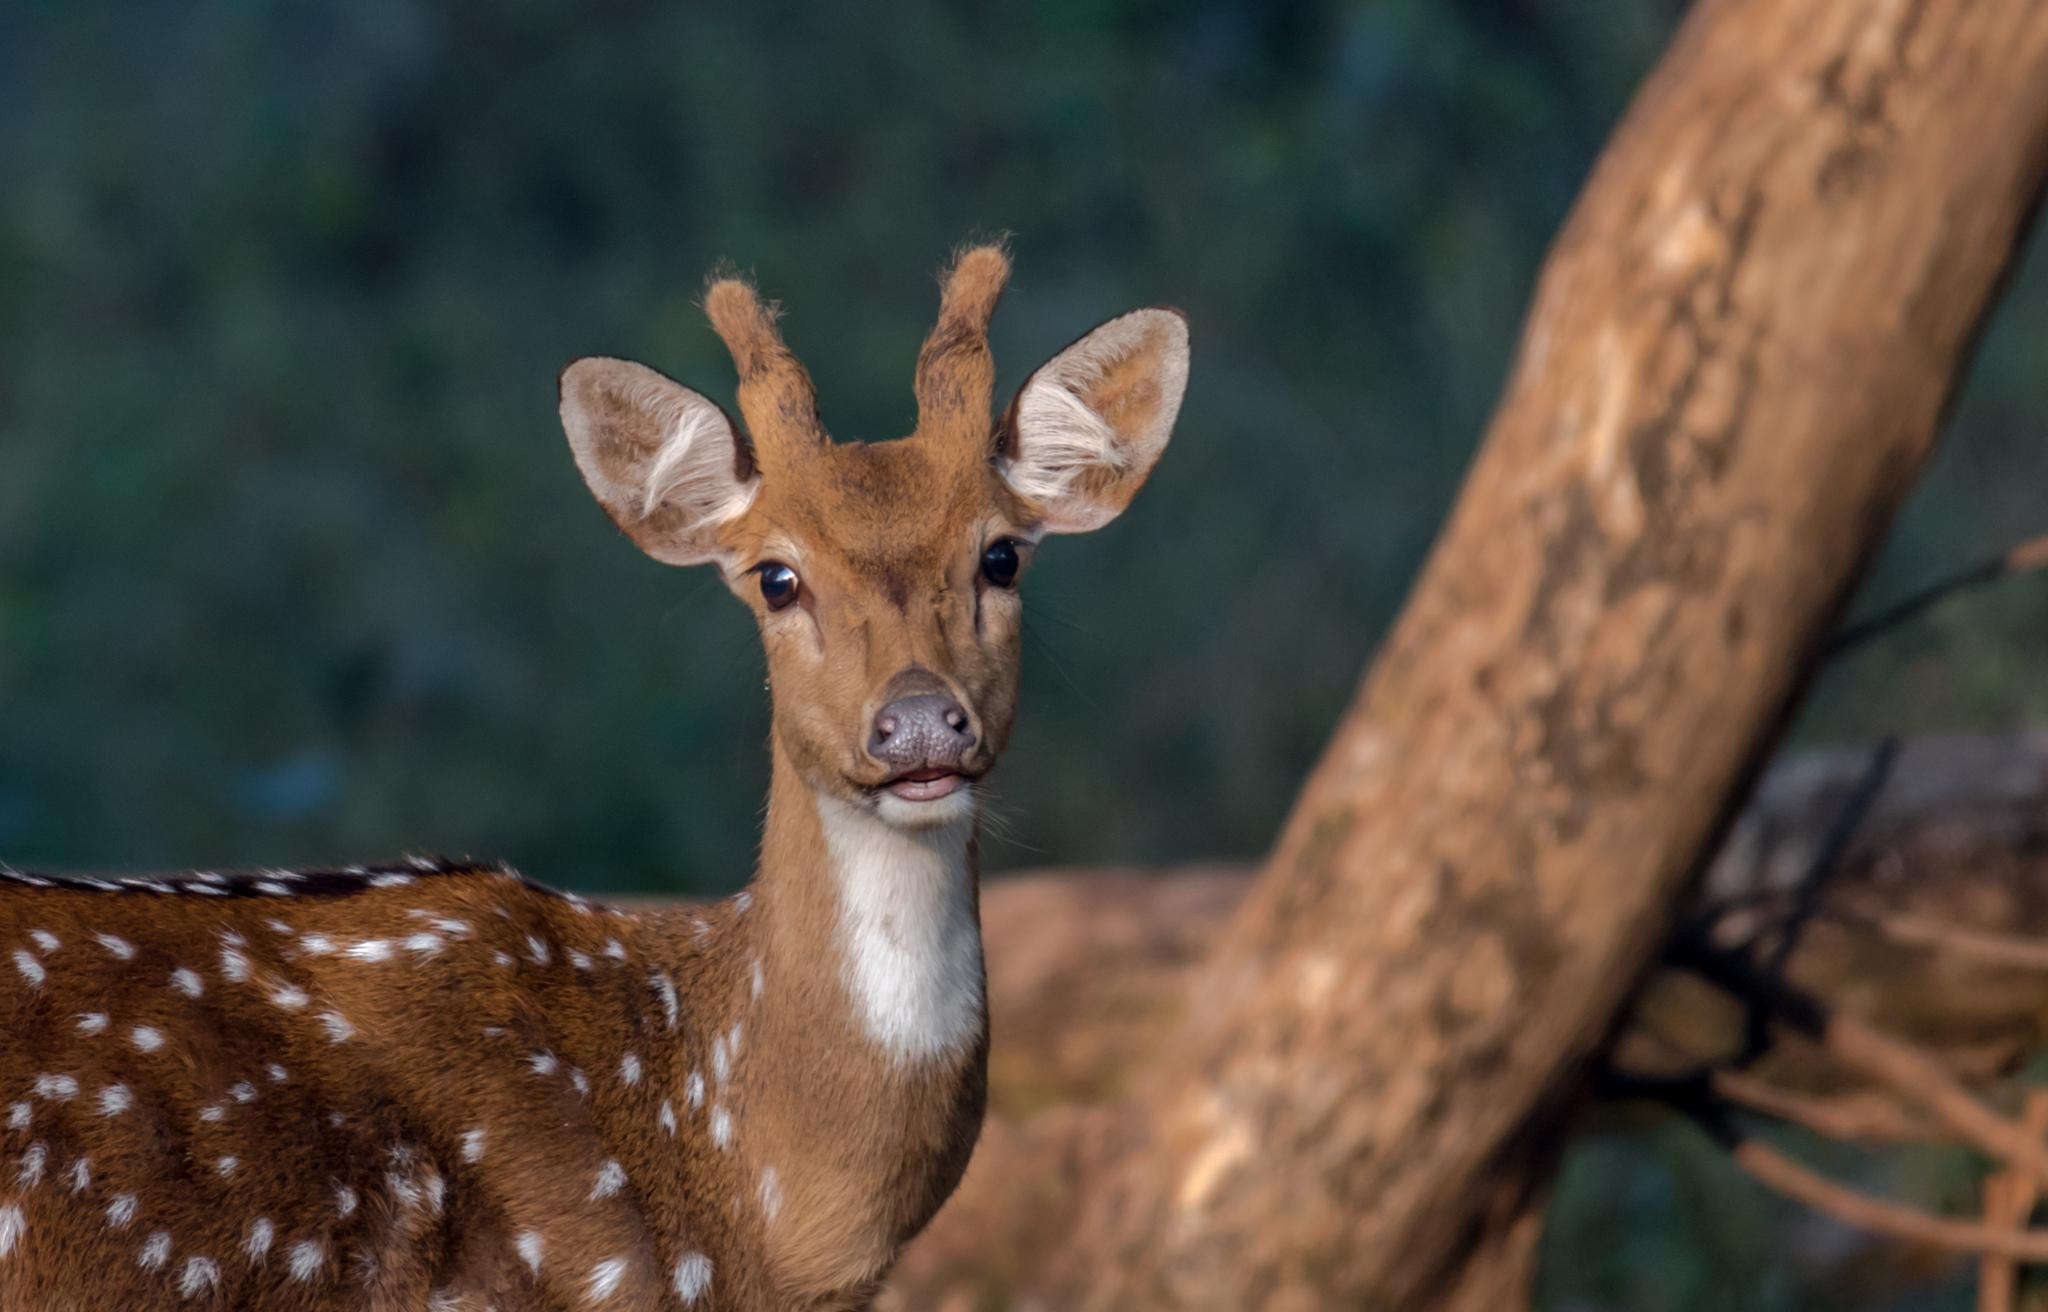Deer: (0, 243, 1188, 1311)
